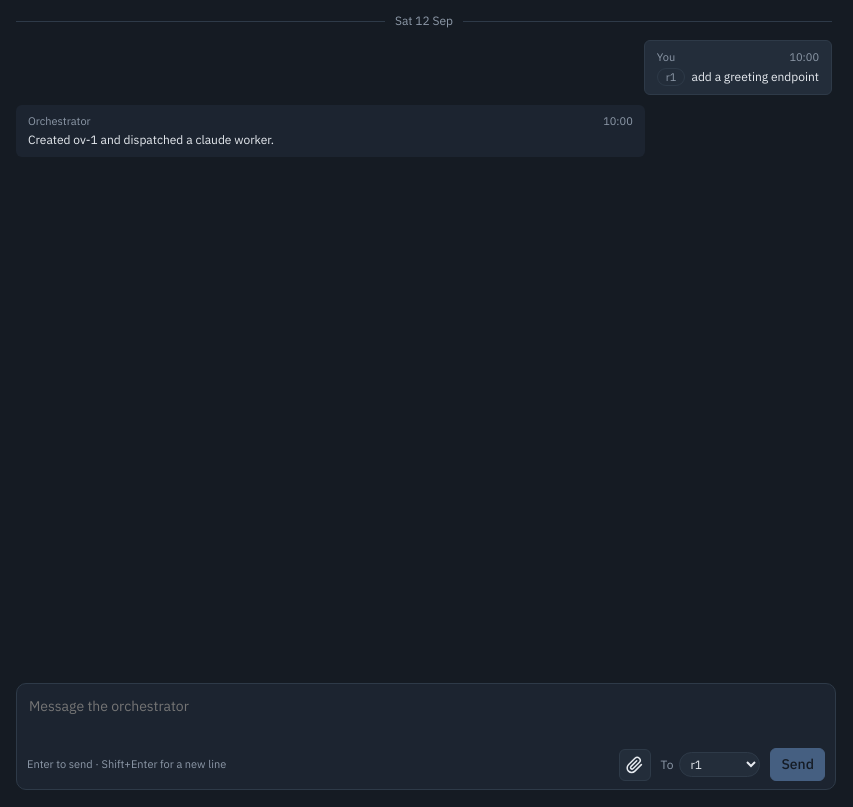
Test: Chat › allows a second send while the first send refresh is still pending
The image size is (853, 807).
Expected: the text "Created ov-1 and dispatched a claude worker." is shown, [28,132,274,147]
In the text box with placeholder "Message the orchestrator": [426, 717] box [27,692,825,742], type "first send"
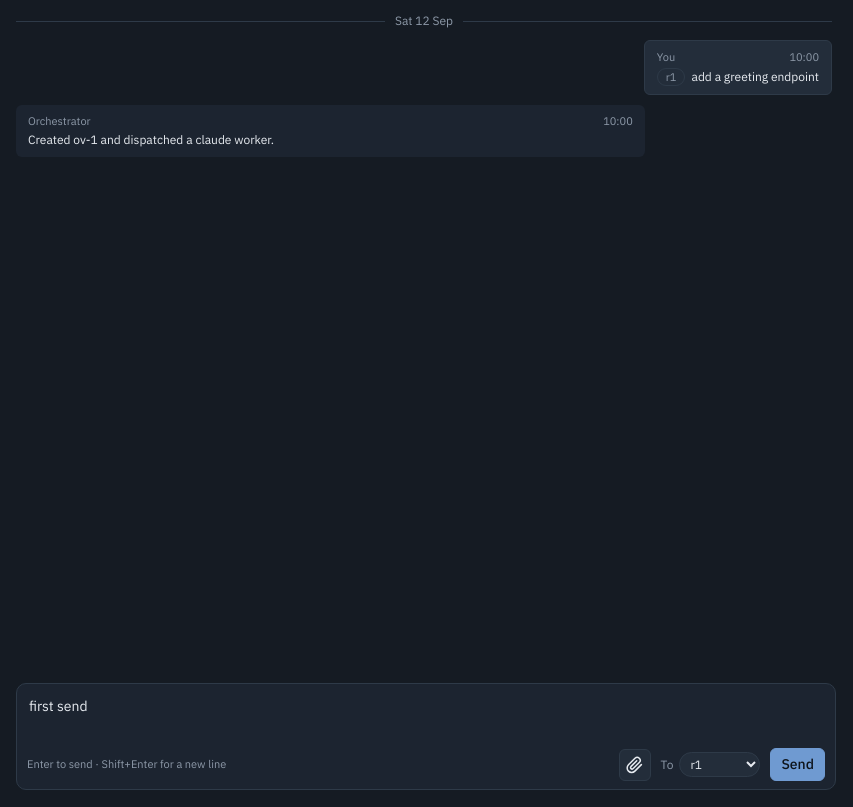
Click the button "Send": [798, 764] box [770,748,825,781]
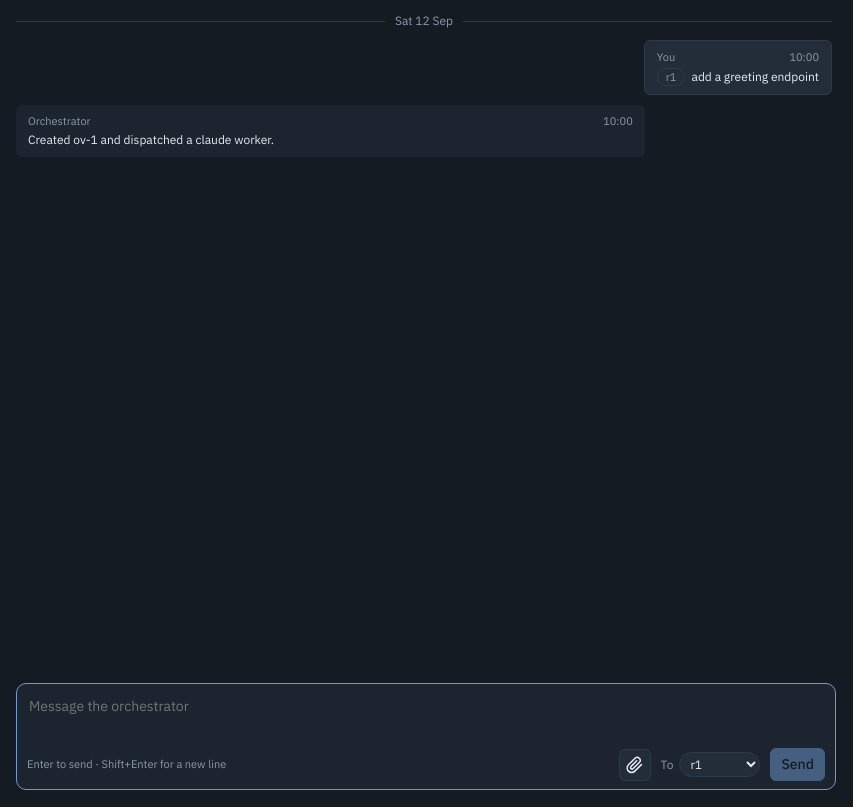
In the text box with placeholder "Message the orchestrator": [426, 717] box [27,692,825,742], type "second send"
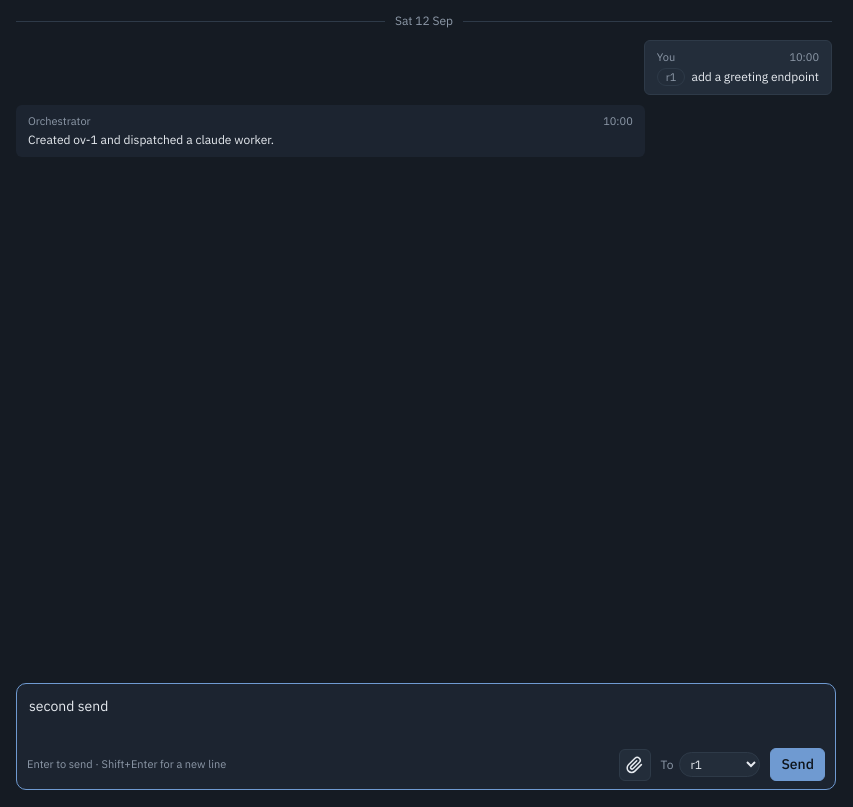
Click the button "Send": [798, 764] box [770,748,825,781]
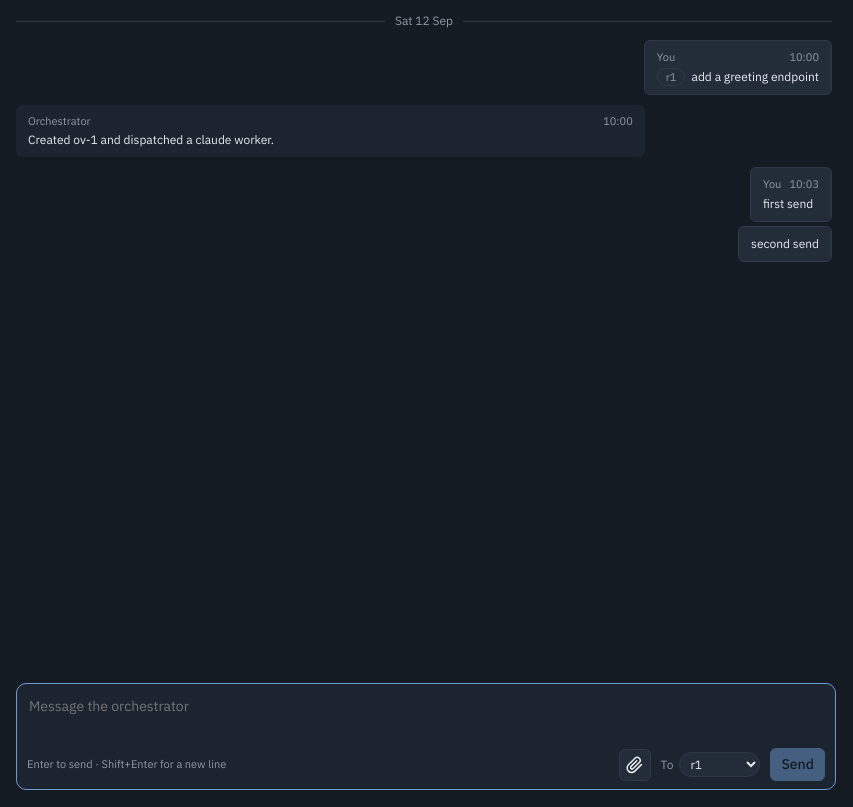
Expected: the text box with placeholder "Message the orchestrator" is enabled, [27,692,825,742]
Expected: the text box with placeholder "Message the orchestrator" is empty, [27,692,825,742]
Expected: the text "second send" is shown, [751,234,819,252]
